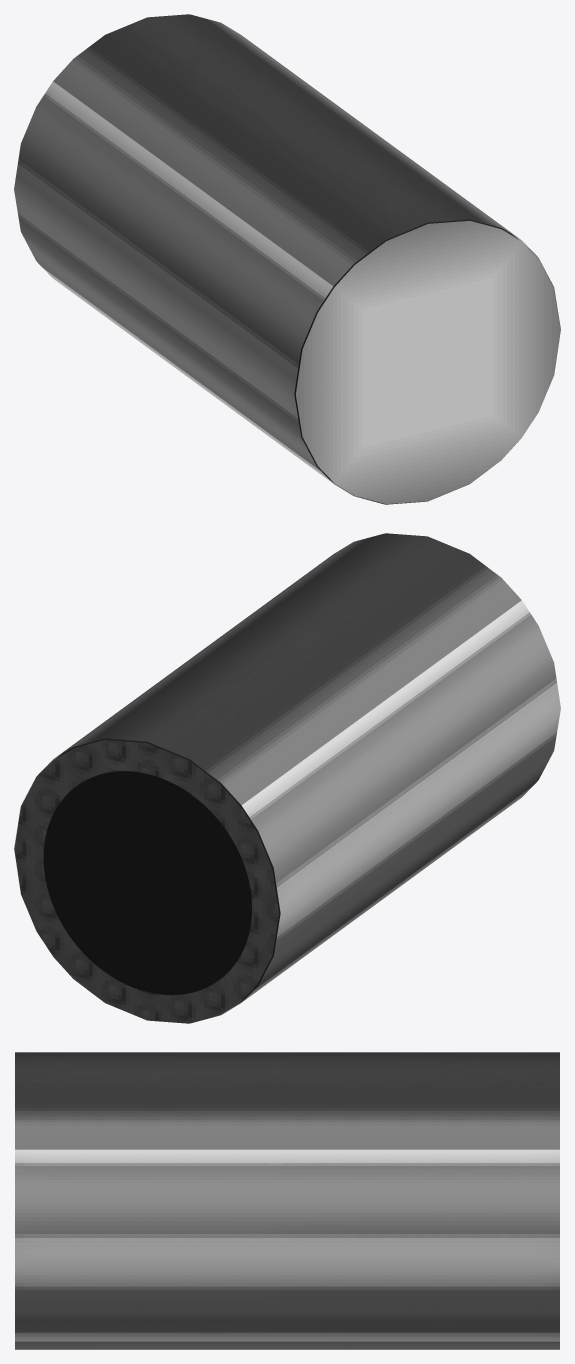
Rendered from turbotorpedo.obj.
3 renders of one model, top to bottom at view 1: azimuth 30°, elevation 25°; view 2: azimuth 150°, elevation 25°; view 3: azimuth 270°, elevation 25°, orthographic. The views are drawn at different scales.
Visible parts, largest first — view 1: Turbotorpedo7, Turbotorpedo4, Turbotorpedo3, Turbotorpedo1; view 2: Turbotorpedo2, Turbotorpedo4, Turbotorpedo3, Turbotorpedo1; view 3: Turbotorpedo5, Turbotorpedo3, Turbotorpedo6.
Boxes of the visible parts, x1,y1,x2,y2 form: Turbotorpedo7: [295, 220, 560, 503]; Turbotorpedo4: [14, 81, 332, 482]; Turbotorpedo3: [53, 14, 520, 286]; Turbotorpedo1: [294, 219, 518, 482]; Turbotorpedo2: [14, 739, 279, 1022]; Turbotorpedo4: [242, 600, 560, 1001]; Turbotorpedo3: [54, 533, 521, 805]; Turbotorpedo1: [56, 738, 280, 1001]; Turbotorpedo5: [15, 1149, 559, 1341]; Turbotorpedo3: [15, 1052, 559, 1149]; Turbotorpedo6: [15, 1341, 559, 1349].
Bounding box in the file's own units: 6.04 × 6.04 × 11.04.
Materials: 5 (4 with a texture image).
